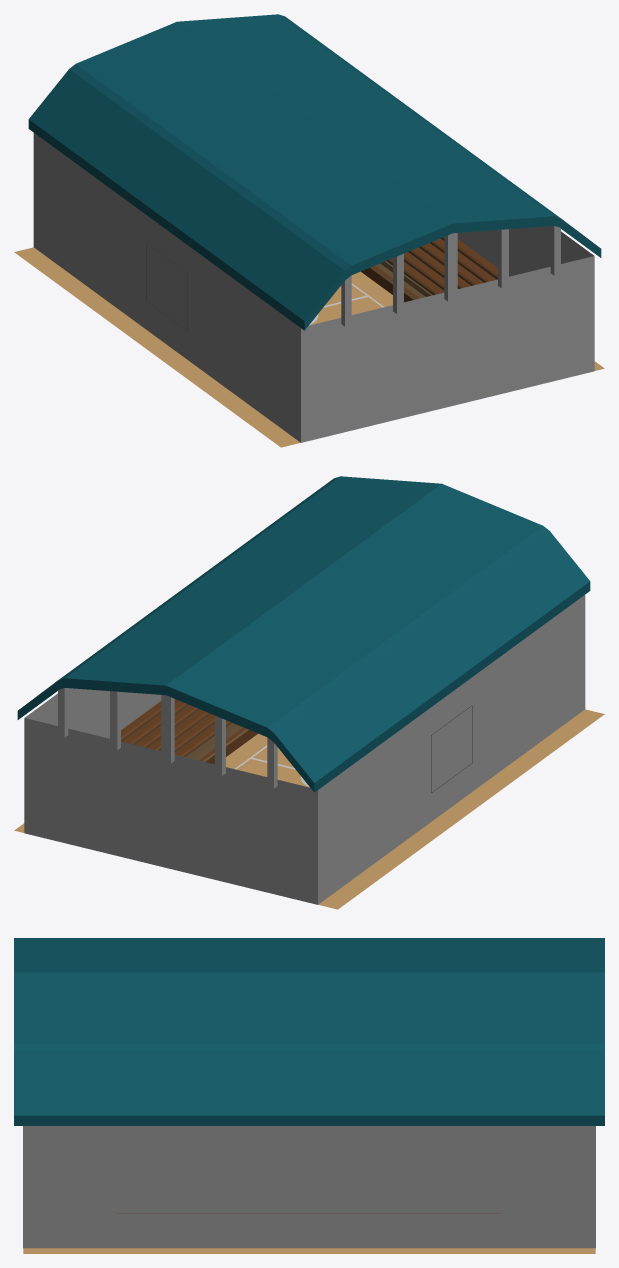
The model's file is basketball Court.fbx.
The picture shows the model from 3 angles, top to bottom: view 1: azimuth 30°, elevation 25°; view 2: azimuth 150°, elevation 25°; view 3: azimuth 270°, elevation 25°; orthographic projection. The views are drawn at different scales.
Visible parts, largest first — view 1: Cylinder, Cube.001, Plane, Cube; view 2: Cylinder, Cube.001, Plane, Cube; view 3: Cylinder, Cube.001, Plane.
Part boxes in pixels (x1,y1,x2,y2): Cylinder: [28, 14, 601, 330]; Cube.001: [33, 133, 594, 442]; Plane: [14, 247, 604, 447]; Cube: [361, 237, 497, 302]; Cylinder: [17, 476, 590, 792]; Cube.001: [24, 595, 585, 904]; Plane: [14, 709, 604, 909]; Cube: [121, 699, 257, 764]; Cylinder: [14, 938, 604, 1125]; Cube.001: [23, 1126, 595, 1248]; Plane: [23, 1248, 595, 1253].
Size of the model in its own units: 3524 by 1938 by 5199.
